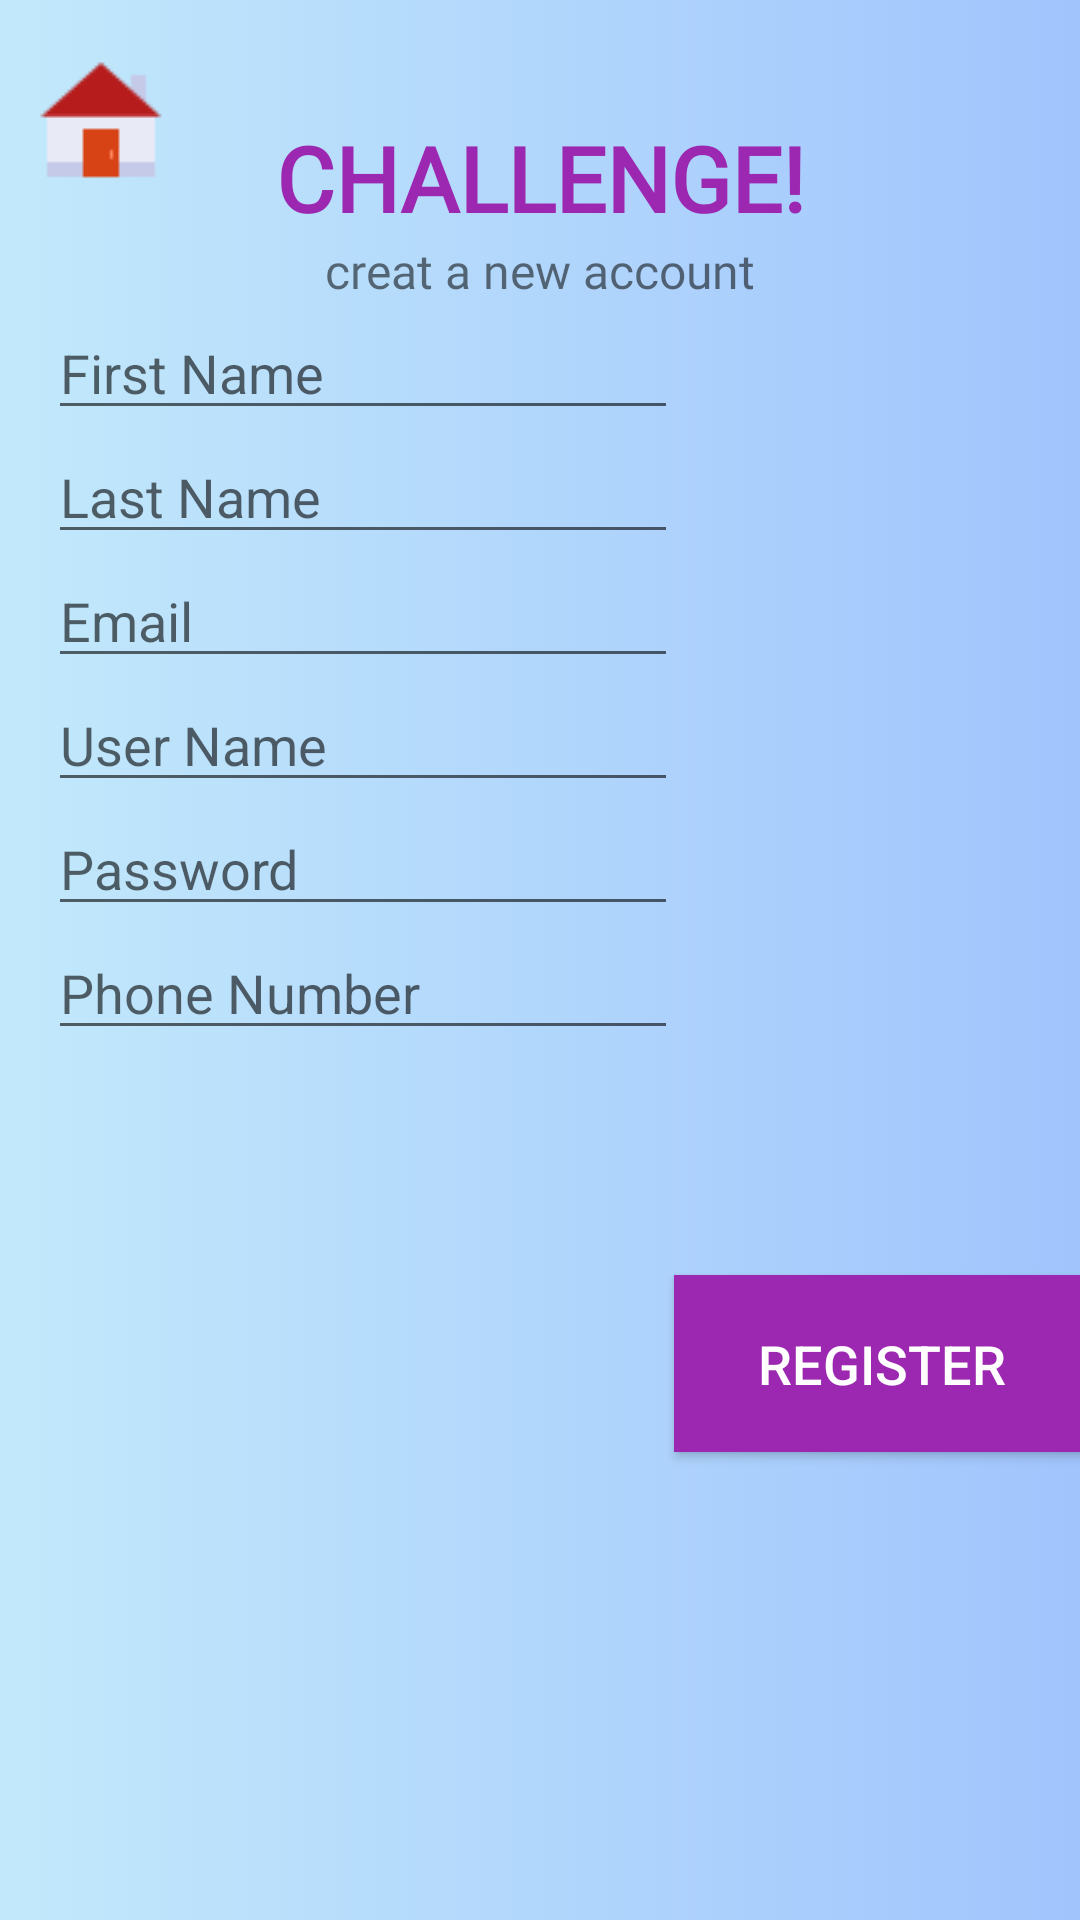

Icons on this 1080w x 1920h Android screen, each with its box as [left=x1, top=y1, right=x2, bottom=y2]:
home: [left=40, top=62, right=162, bottom=178]
